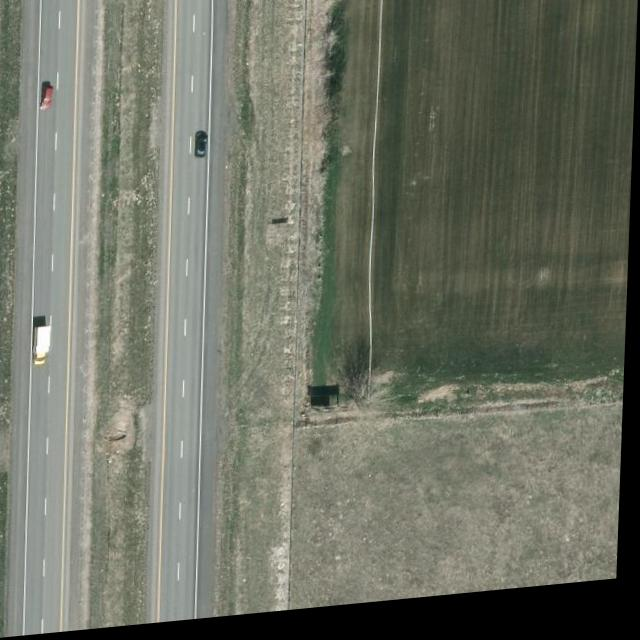vehicle: (35, 327, 55, 368), (196, 136, 209, 165), (41, 86, 55, 111)
